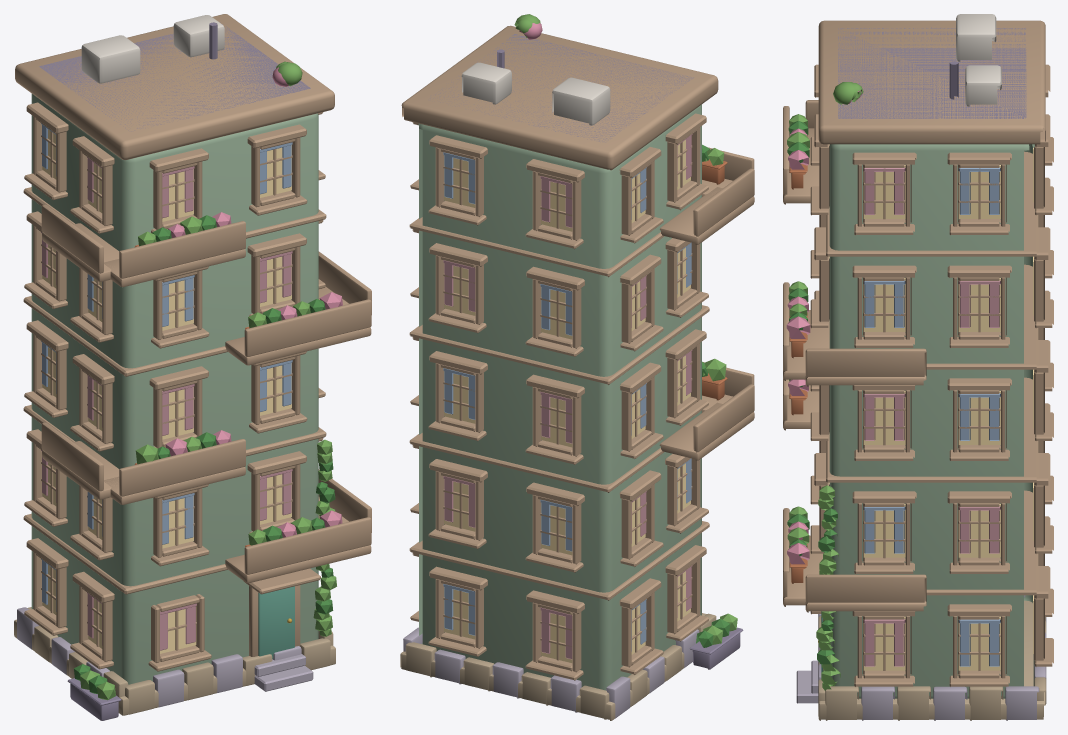
The model's file is ac_apartment_r90.glb.
3 renders of one model, left to right at view 1: azimuth 30°, elevation 25°; view 2: azimuth 150°, elevation 25°; view 3: azimuth 270°, elevation 25°, orthographic. The views are drawn at different scales.
Parts seen in each view (by area): view 1: box; view 2: box; view 3: box.
Part boxes in pixels (x1,y1,x2,y2): box: (14,14,371,720); box: (400,14,754,720); box: (783,14,1053,720).
Bounding box in the file's own units: 8.94 × 18.96 × 7.39.
